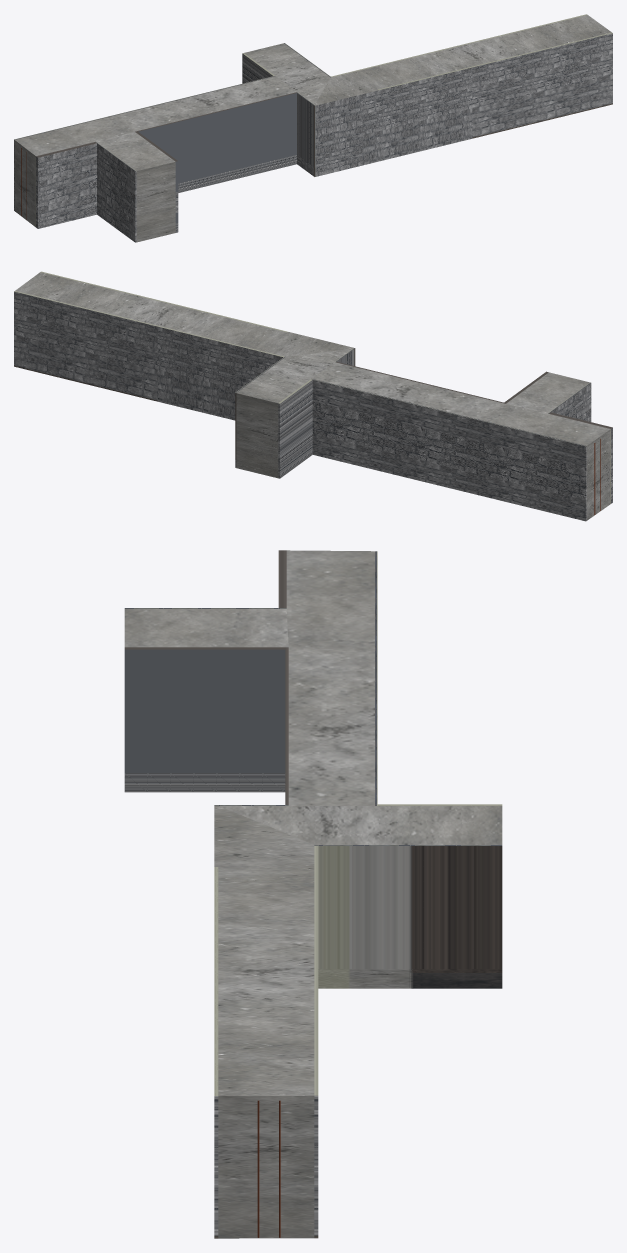
Rendered from secretunnel int.fbx.
The picture shows the model from 3 angles, top to bottom: view 1: azimuth 30°, elevation 25°; view 2: azimuth 150°, elevation 25°; view 3: azimuth 270°, elevation 25°; orthographic projection. The views are drawn at different scales.
Visible parts, largest first — view 1: ladr; view 2: ladr; view 3: ladr.
Part boxes in pixels (x1,y1,x2,y2): ladr: (14, 14, 612, 242); ladr: (14, 271, 612, 521); ladr: (124, 550, 502, 1238).
Size of the model in its own units: 12084 by 1472 by 3535.
2 materials, 2 textured.
